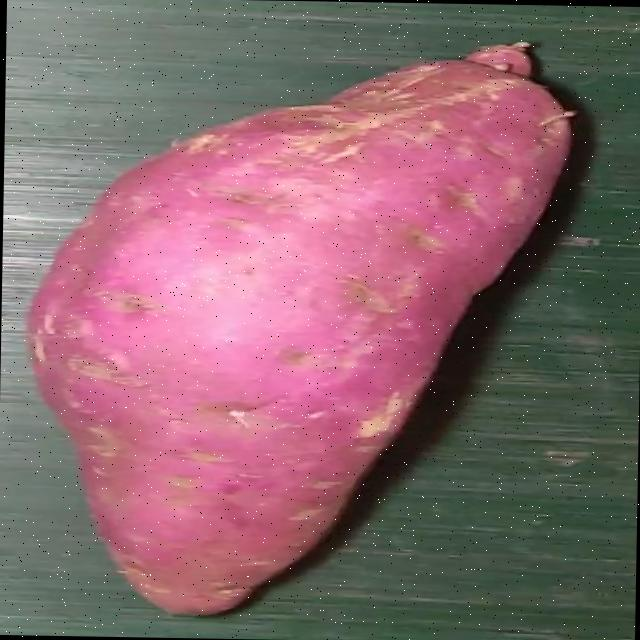Sweet Potato: (24, 43, 576, 616)
